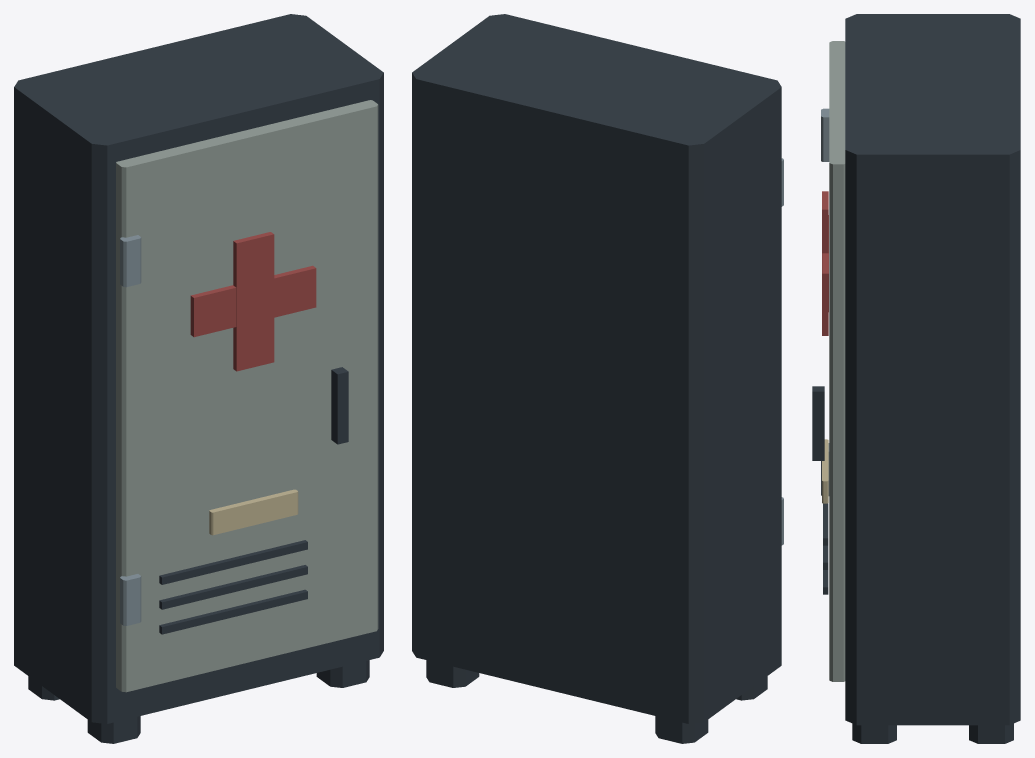
The model's file is rescue_cabinet.glb.
3 views of the same model, side by side, from view 1: azimuth 30°, elevation 25°; view 2: azimuth 150°, elevation 25°; view 3: azimuth 270°, elevation 25° (orthographic).
Visible parts, largest first — view 1: geometry; view 2: geometry; view 3: geometry.
Part boxes in pixels (x1=…): geometry: x1=14, y1=14, x2=383, y2=743; geometry: x1=412, y1=14, x2=783, y2=743; geometry: x1=812, y1=14, x2=1020, y2=743.
Bounding box in the file's own units: 0.74 × 1.46 × 0.464.
